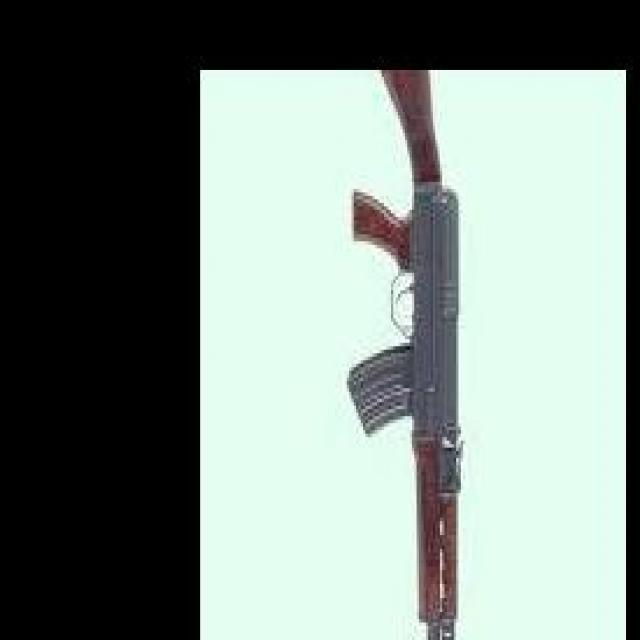weapon: (346, 71, 468, 640)
